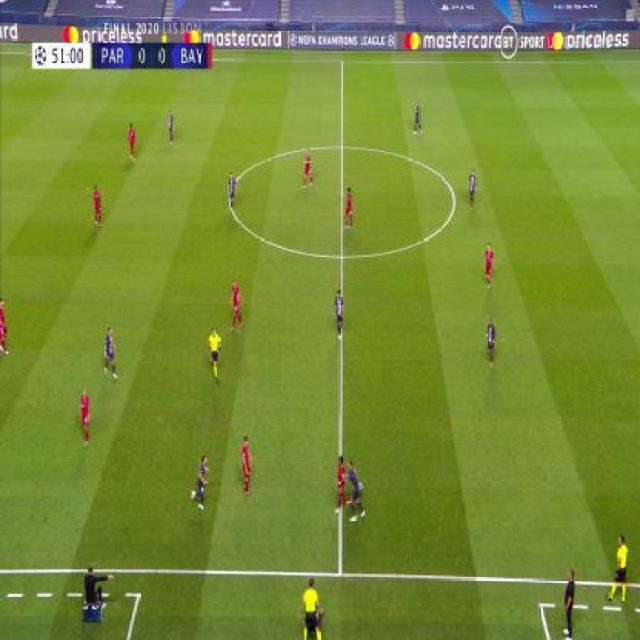ball: (359, 482, 364, 491)
player: (607, 533, 630, 606), (299, 580, 325, 639), (83, 564, 108, 623), (346, 459, 366, 522), (561, 569, 577, 640), (192, 454, 211, 510), (334, 454, 350, 516), (240, 434, 254, 497), (228, 278, 244, 332), (103, 326, 119, 379), (208, 328, 222, 384), (79, 388, 92, 447), (485, 318, 498, 367), (302, 147, 316, 189), (334, 289, 345, 340), (91, 185, 104, 228), (0, 296, 9, 355), (483, 242, 494, 290), (343, 186, 354, 231), (227, 170, 238, 215), (466, 168, 477, 211), (127, 122, 136, 161), (167, 109, 176, 146), (413, 99, 422, 135)
